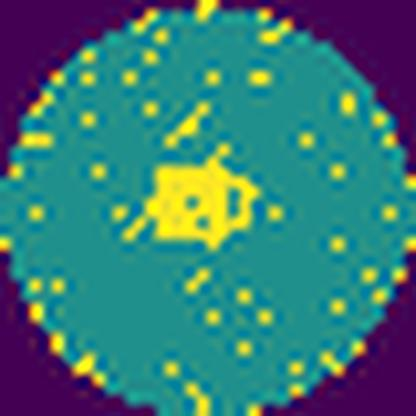Center: (143, 146, 259, 252)
